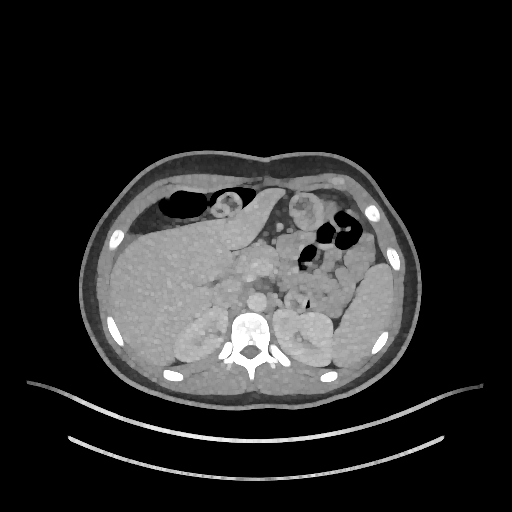Lesion: (212, 325, 226, 339)
